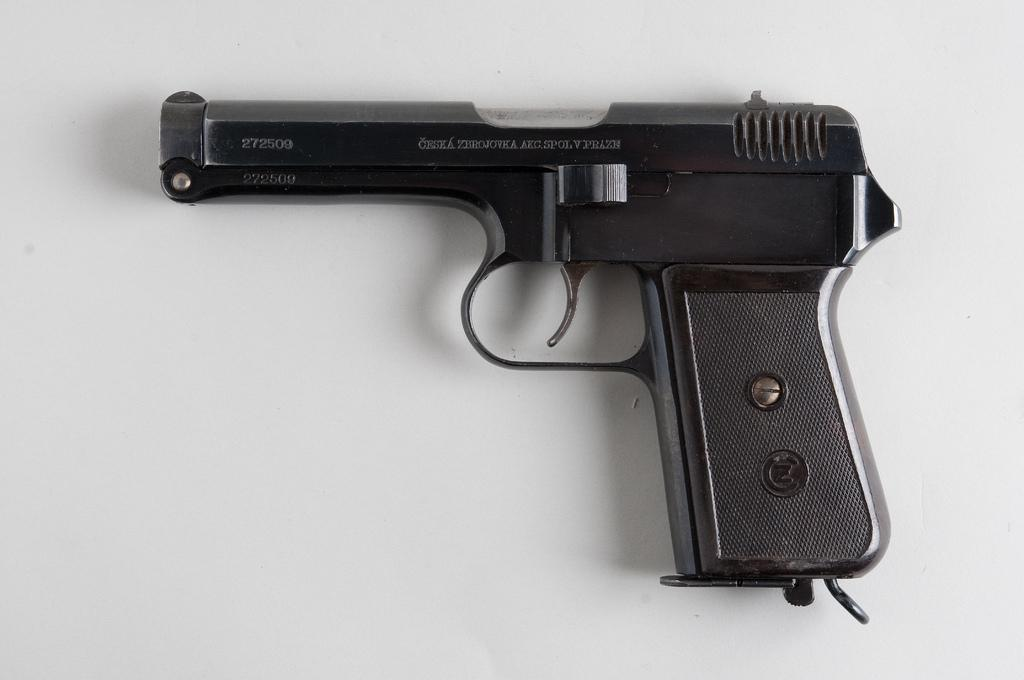Handgun: (158, 86, 906, 625)
